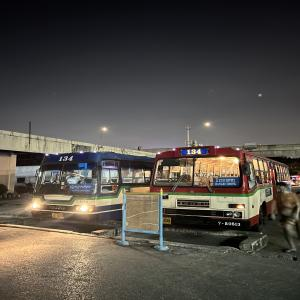BMTA-bus: (150, 146, 288, 231), (31, 152, 154, 223)
Bus Line Number: (57, 155, 74, 162), (185, 149, 204, 155)
Bus Side Number: (216, 221, 244, 228), (76, 200, 88, 204)
Destination Sign: (212, 176, 240, 186), (68, 184, 92, 194)
